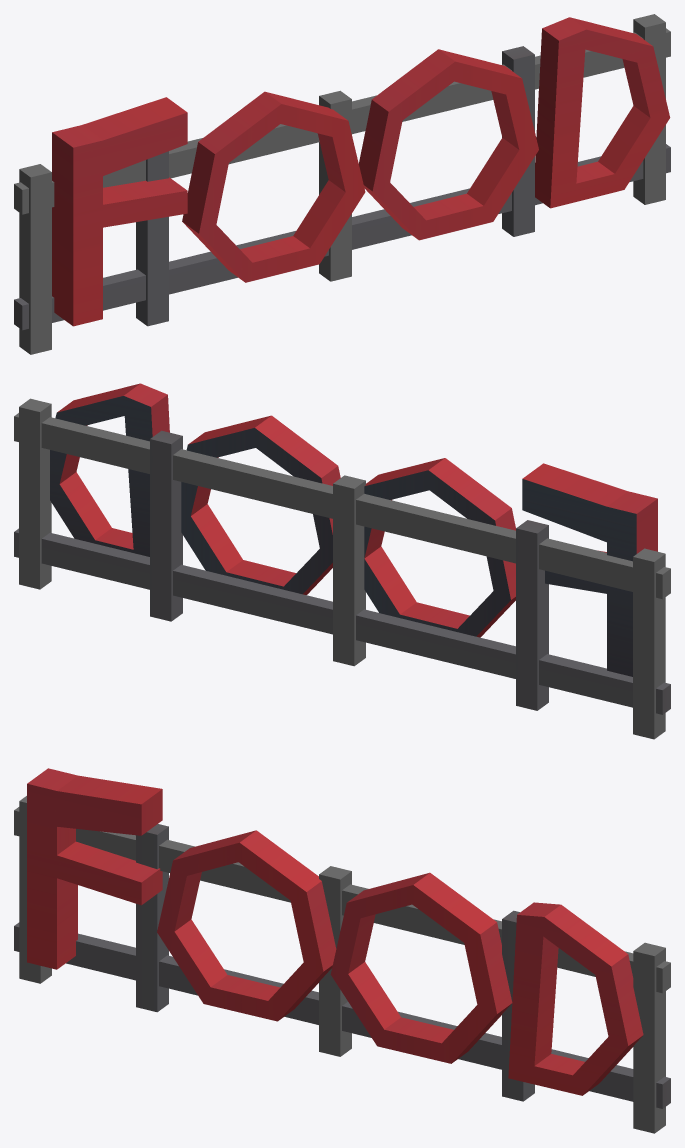
Rendered from SM_Hoarding_02.FBX.
The picture shows the model from 3 angles, top to bottom: view 1: azimuth 30°, elevation 25°; view 2: azimuth 150°, elevation 25°; view 3: azimuth 330°, elevation 25°; orthographic projection.
Parts seen in each view (by area): view 1: SM_Hoarding_02; view 2: SM_Hoarding_02; view 3: SM_Hoarding_02.
Boxes of the visible parts, left/top/right/bottom form: SM_Hoarding_02: left=14, top=14, right=670, bottom=354; SM_Hoarding_02: left=14, top=383, right=670, bottom=739; SM_Hoarding_02: left=14, top=768, right=670, bottom=1133.
Size of what is drawn, in the model's own units: 744 by 57.28 by 242.
